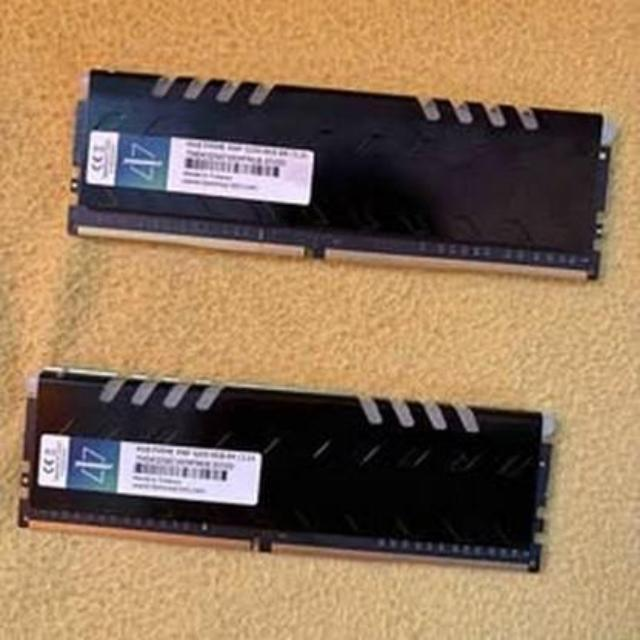RAM: (62, 48, 620, 296), (9, 356, 562, 582)
